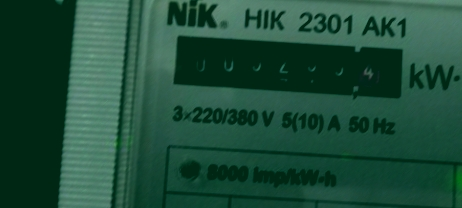0: (190, 47, 207, 74), (219, 46, 234, 72)
2: (274, 48, 289, 73)
3: (302, 47, 317, 73)
4: (359, 54, 375, 80)
5: (329, 49, 345, 77), (246, 47, 262, 73)
screen: (162, 25, 413, 105)
